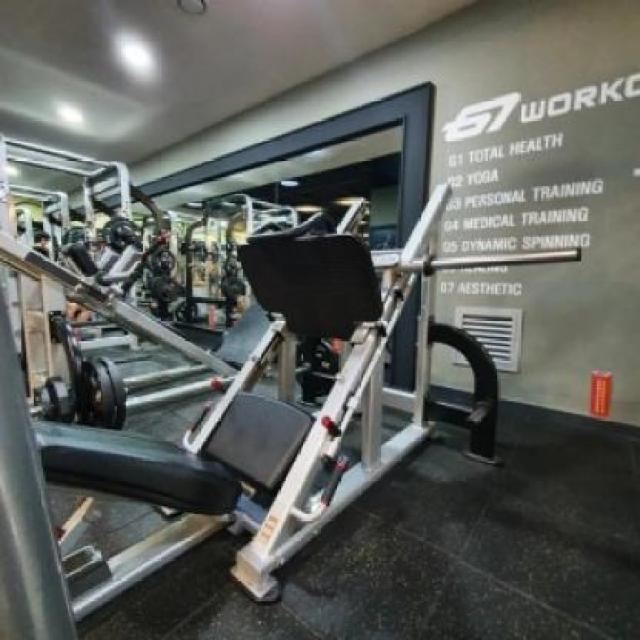leg press: (0, 161, 604, 640)
